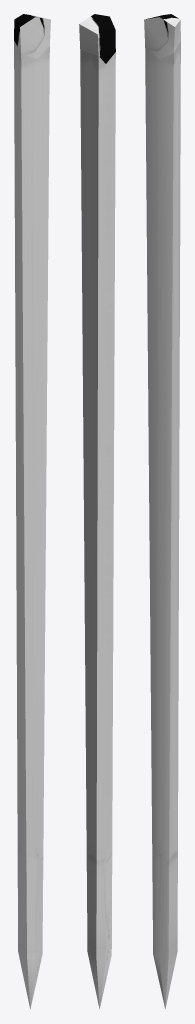
The model's file is Spatula_Needle_Colldr.fbx.
3 views of the same model, side by side, from view 1: azimuth 30°, elevation 25°; view 2: azimuth 210°, elevation 25°; view 3: azimuth 330°, elevation 25° (orthographic).
Parts seen in each view (by area): view 1: Spatula_Needle_Colldr; view 2: Spatula_Needle_Colldr; view 3: Spatula_Needle_Colldr.
Part boxes in pixels (<box>): Spatula_Needle_Colldr: <box>14,14,50,1008</box>; Spatula_Needle_Colldr: <box>79,14,115,1008</box>; Spatula_Needle_Colldr: <box>144,14,180,1008</box>.
Bounding box in the file's own units: 0.7157 × 22.07 × 0.623.
